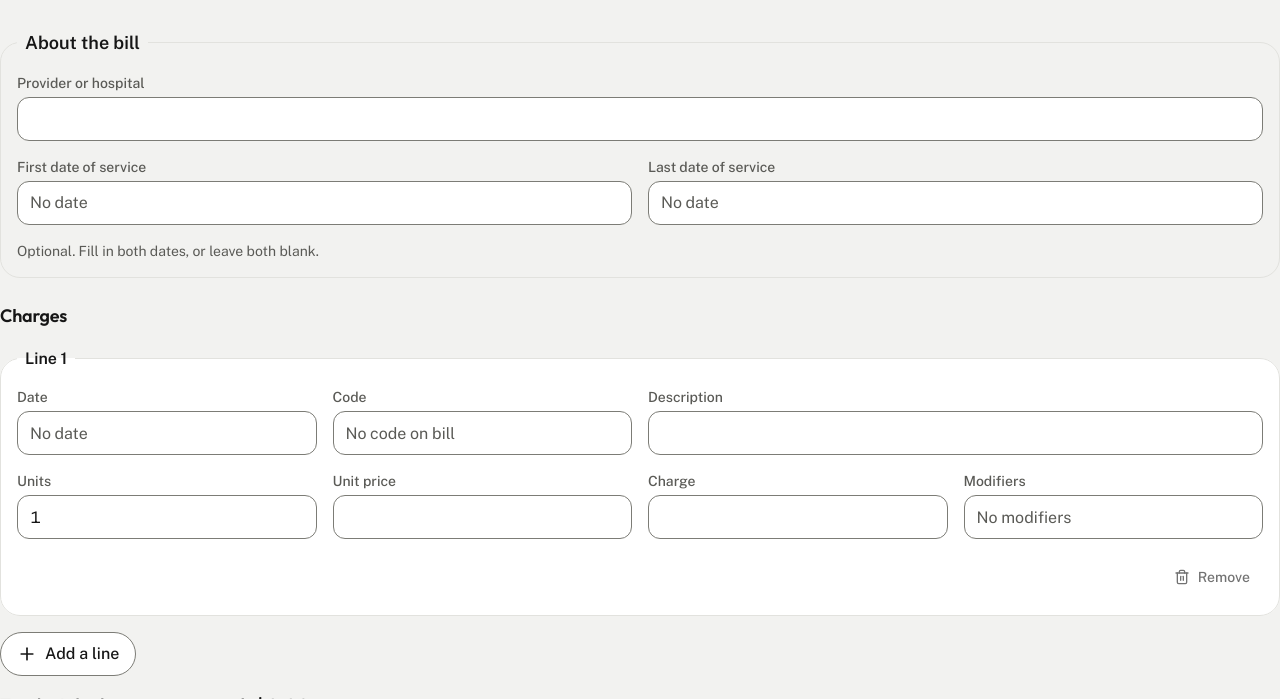
Test: ManualEntryForm › adds and removes lines and keeps the total in step
Type "SYNTHETIC VISIT" into the field named "Description, row 1" at [956, 433], box 648,411 -> 1263,455
Type "99213" into the field named "Code, row 1" at [482, 433], box 332,411 -> 632,455
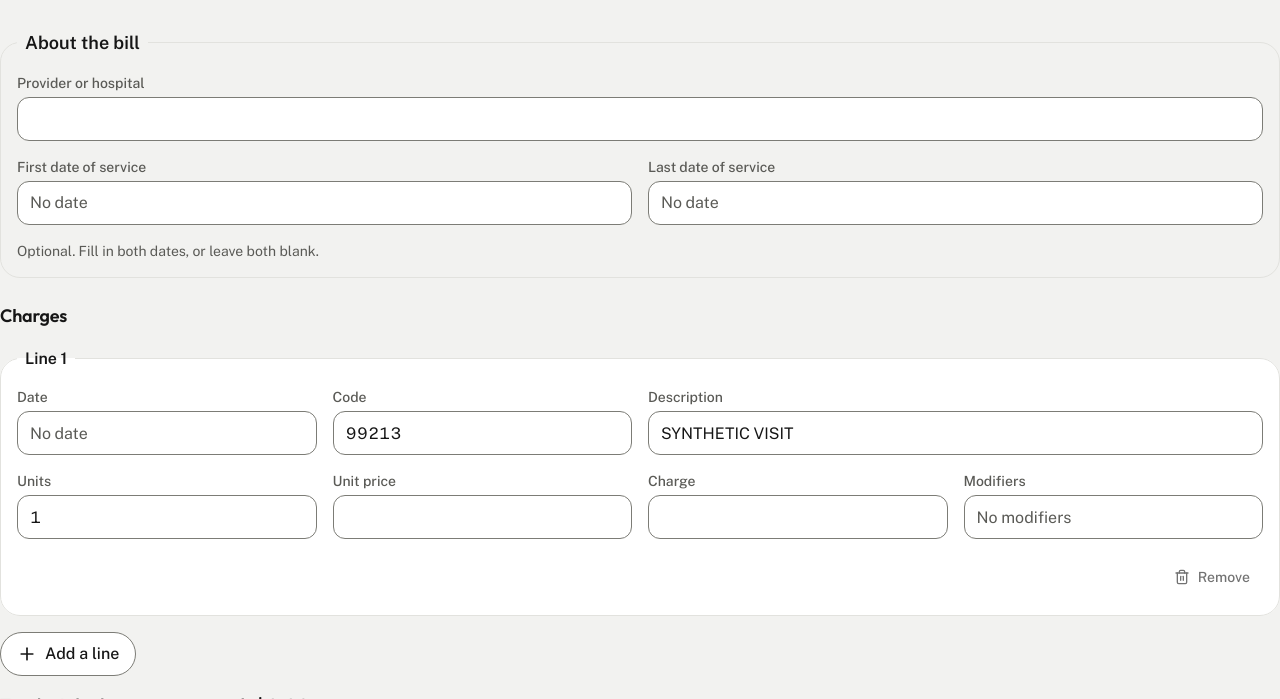
Type "125.00" into the field named "Charge, row 1" at [798, 517], box 648,495 -> 948,539
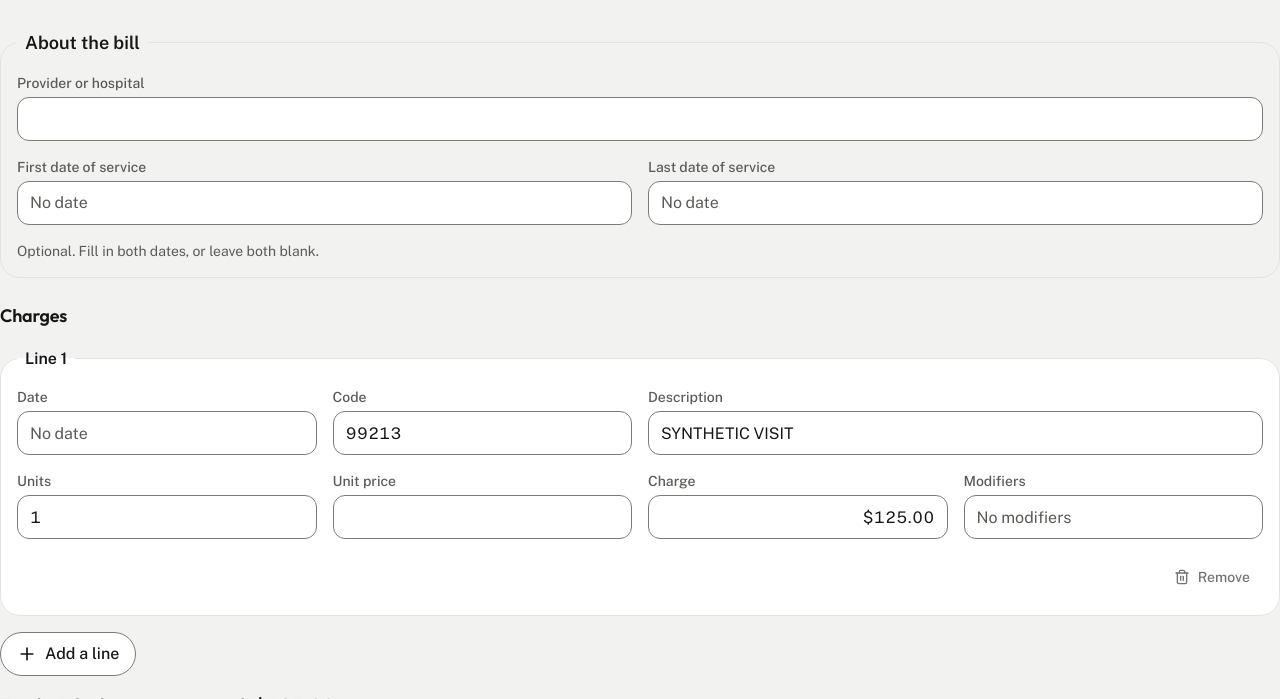
Click the button "Add a line" at [68, 654], box 0,632 -> 136,676
(page scrolled)
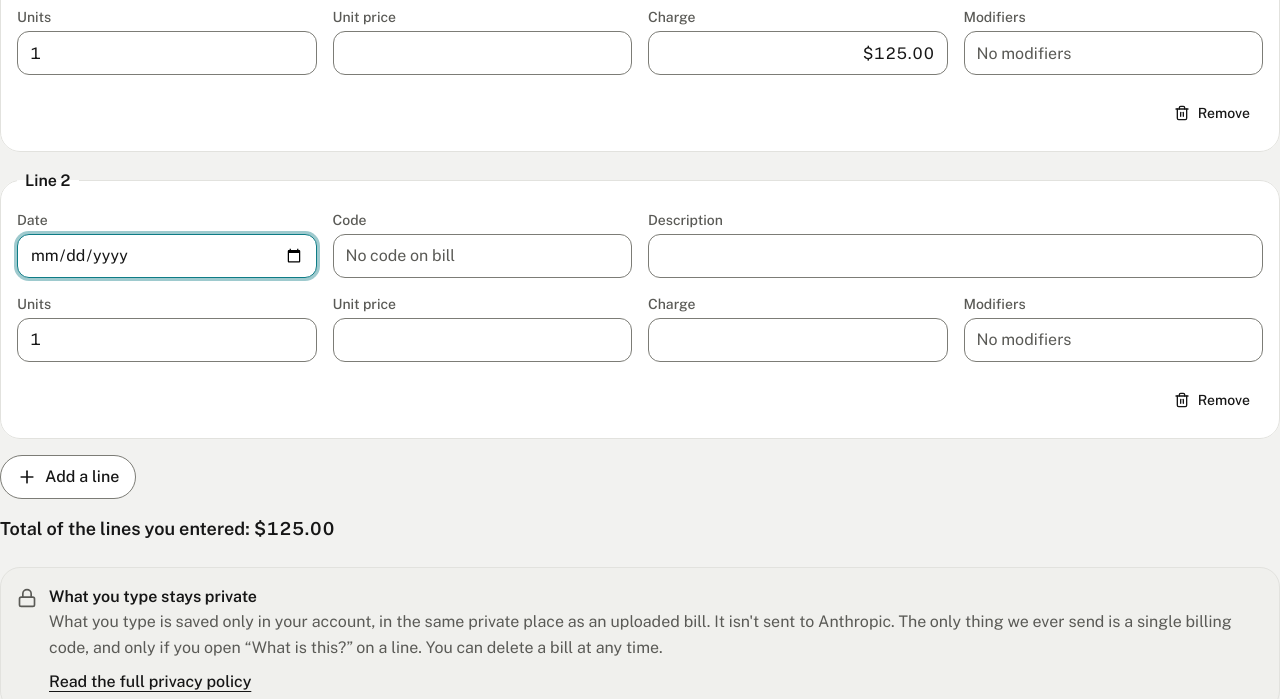
Type "10.50" into the field named "Charge, row 2" at [798, 340], box 648,318 -> 948,362
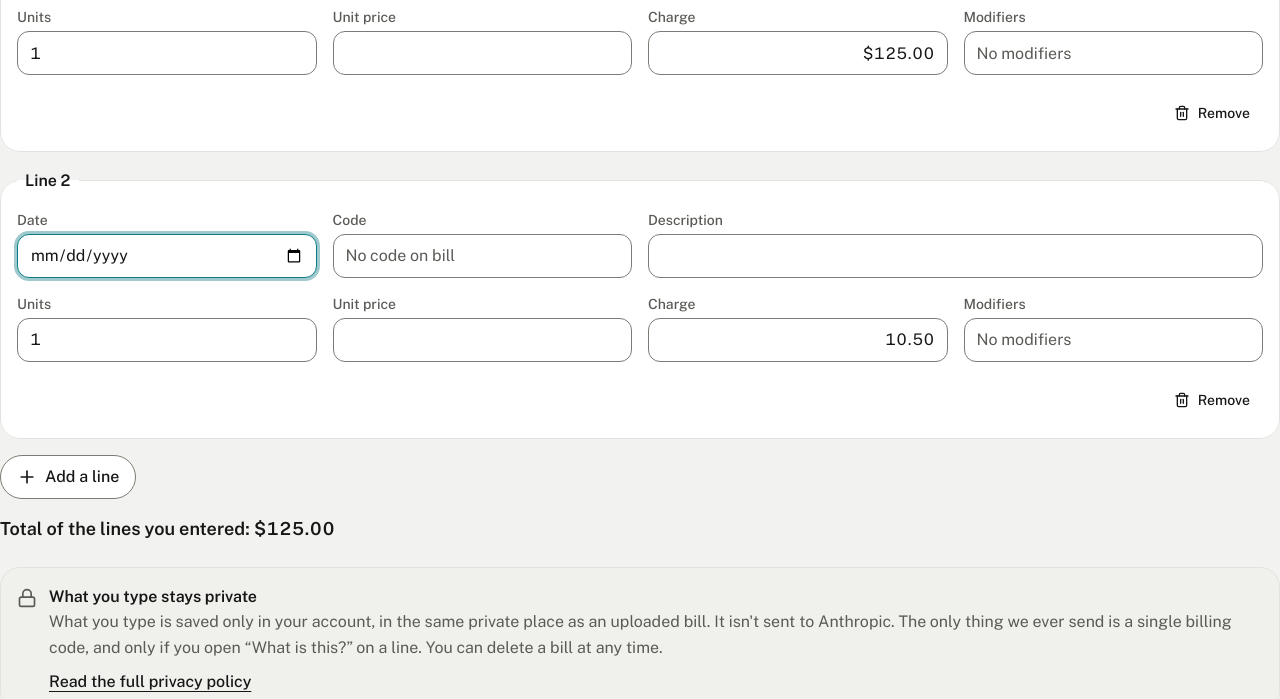
Leave the field named "Charge, row 2", box 648,318 -> 948,362
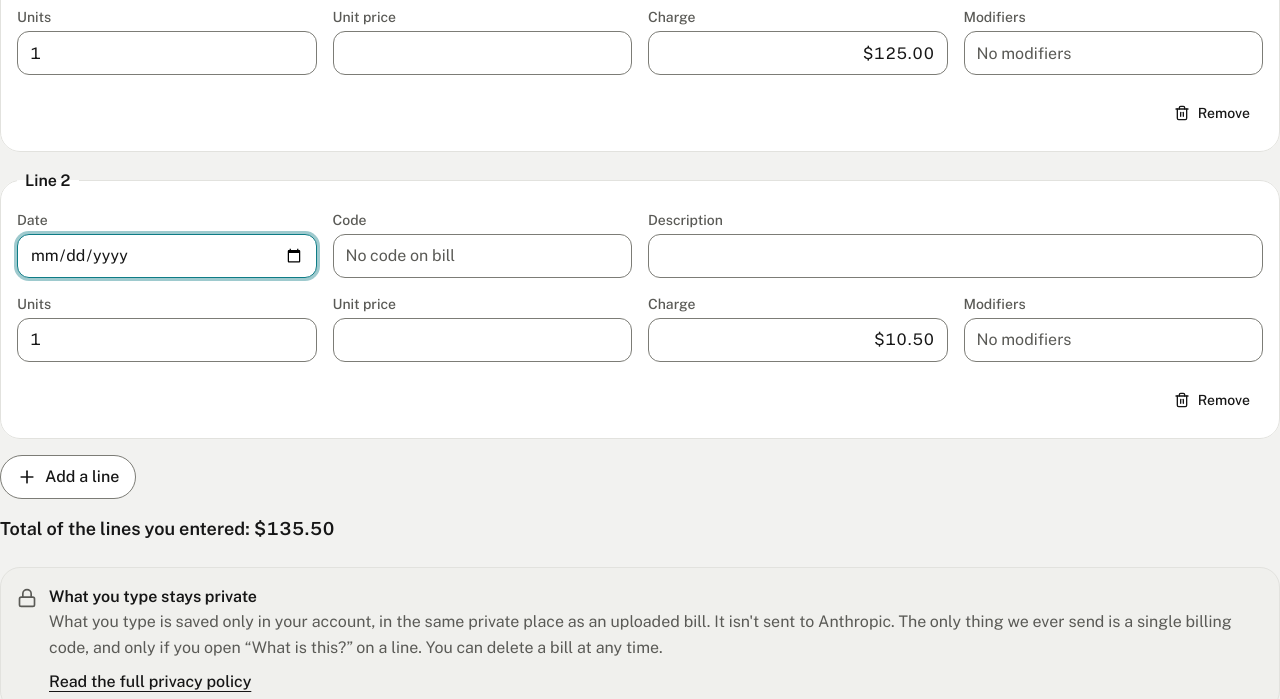
Check: the text "Total of the lines you entered: $135.50" is shown, box 0,518 -> 335,539
Click the button with aria-label "Remove line 2" at [1212, 400], box 1161,378 -> 1263,422
(page scrolled)
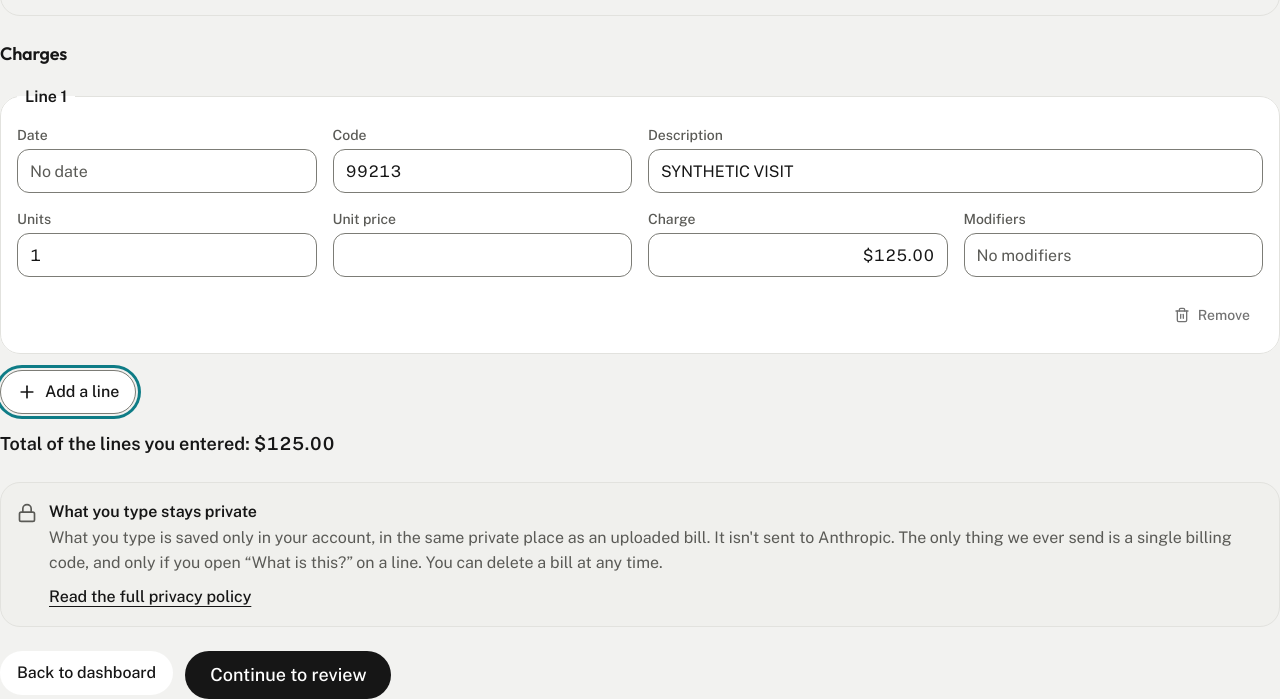
Check: the text "Total of the lines you entered: $125.00" is shown, box 0,433 -> 335,454
